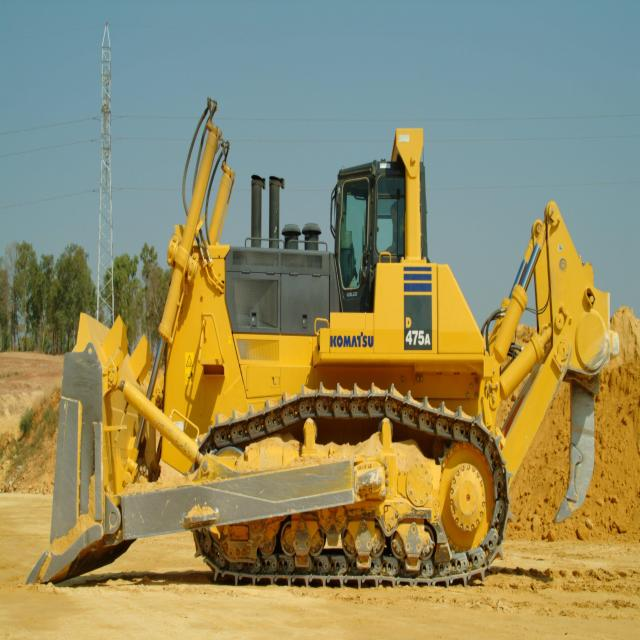Bulldozer: (34, 102, 617, 612)
